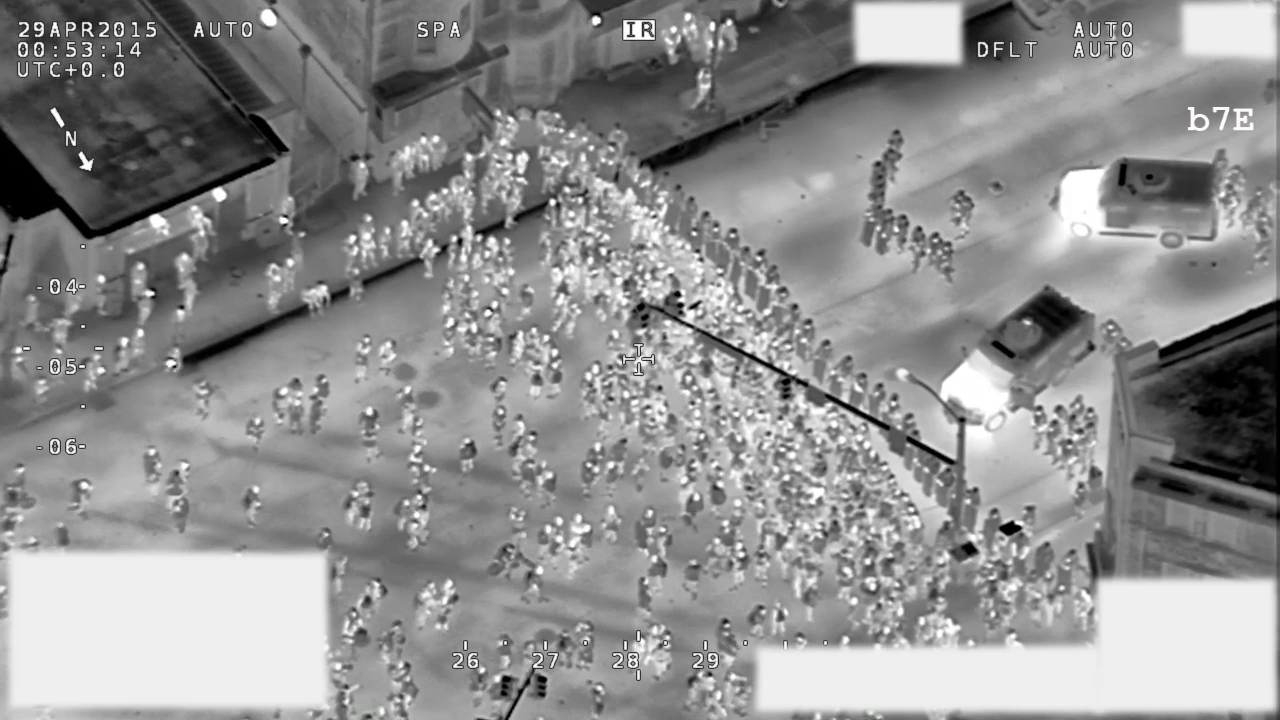vehicle: (937, 281, 1099, 430), (1049, 147, 1237, 253)
